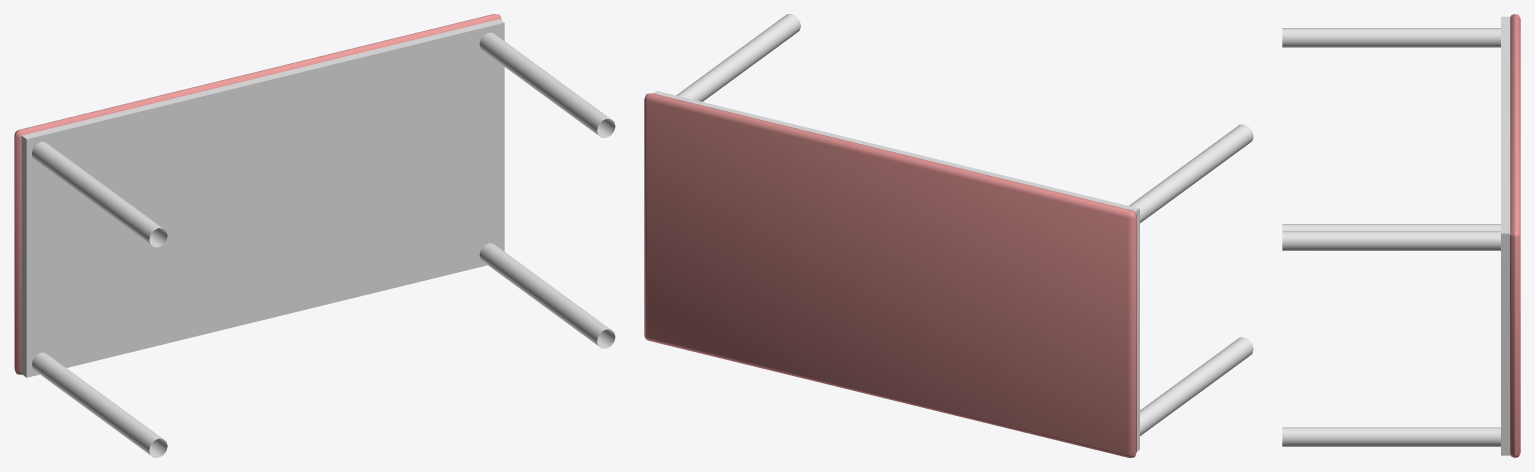
3 renders of one model, left to right at view 1: azimuth 30°, elevation 25°; view 2: azimuth 150°, elevation 25°; view 3: azimuth 270°, elevation 25°, orthographic. The views are drawn at different scales.
Visible parts, largest first — view 1: Cube.001; view 2: Cube.001; view 3: Cube.001.
Part boxes in pixels (x1=…): Cube.001: x1=14, y1=14, x2=615, y2=457; Cube.001: x1=644, y1=14, x2=1253, y2=457; Cube.001: x1=1282, y1=14, x2=1520, y2=457.
Size of the model in its own units: 80 by 38.5 by 36.55.
